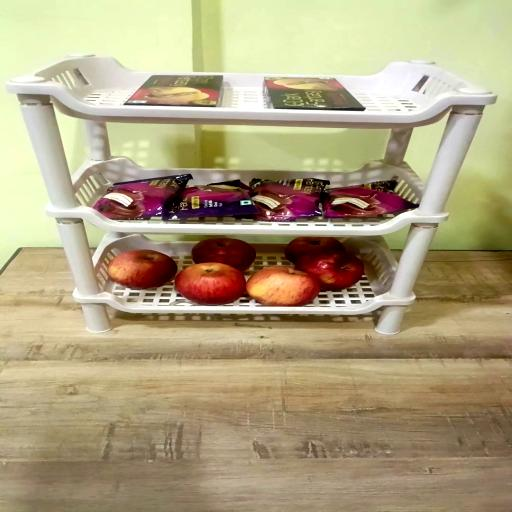Apple: (247, 266, 321, 308), (177, 264, 248, 306), (106, 251, 176, 290), (296, 250, 364, 290), (192, 236, 255, 270), (286, 236, 345, 263)
Choco Fills: (266, 77, 366, 109), (123, 74, 220, 105)
Choco Pie: (92, 178, 189, 222), (164, 180, 257, 220), (323, 182, 419, 220), (252, 180, 328, 223)
